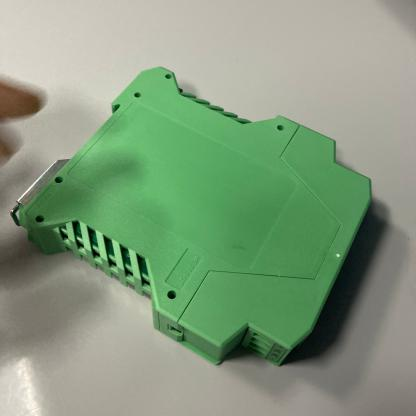SP0000011: (6, 33, 406, 380)
